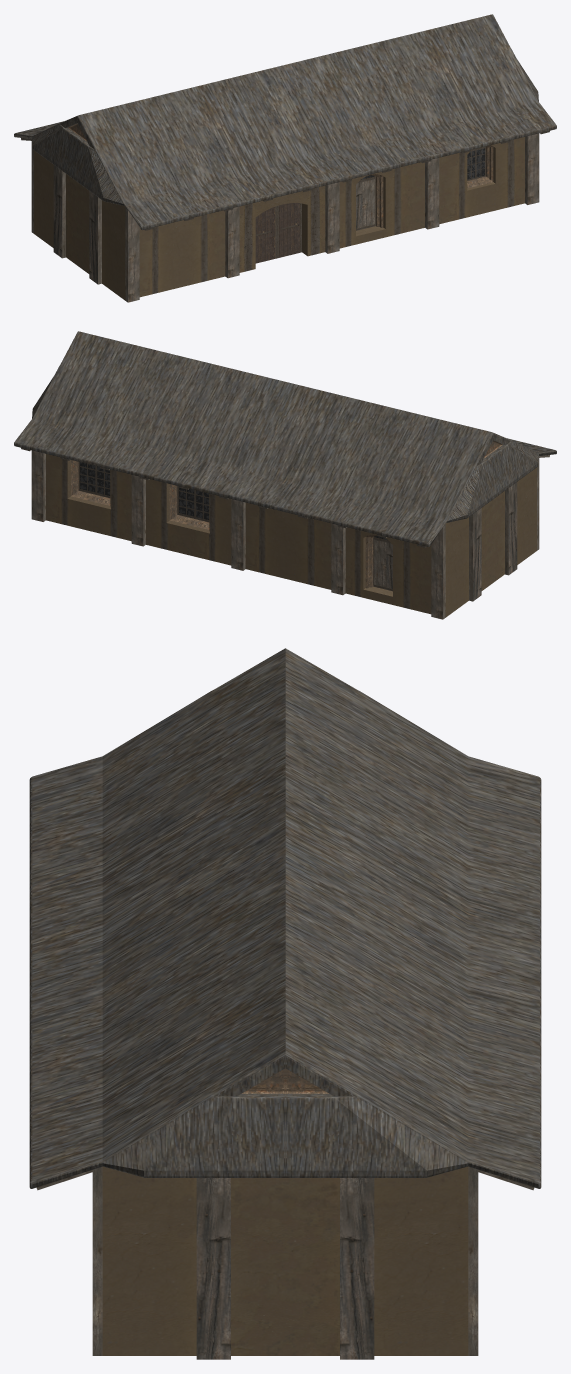
The model's file is longhouse.fbx.
The picture shows the model from 3 angles, top to bottom: view 1: azimuth 30°, elevation 25°; view 2: azimuth 150°, elevation 25°; view 3: azimuth 270°, elevation 25°; orthographic projection. The views are drawn at different scales.
Visible parts, largest first — view 1: longhouse_LOD0; view 2: longhouse_LOD0; view 3: longhouse_LOD0.
Part boxes in pixels (x1,y1,x2,y2): longhouse_LOD0: (14, 14, 556, 302); longhouse_LOD0: (14, 331, 556, 619); longhouse_LOD0: (29, 648, 541, 1359).
Size of what is drawn, in the model's own units: 1099 by 368 by 560.
